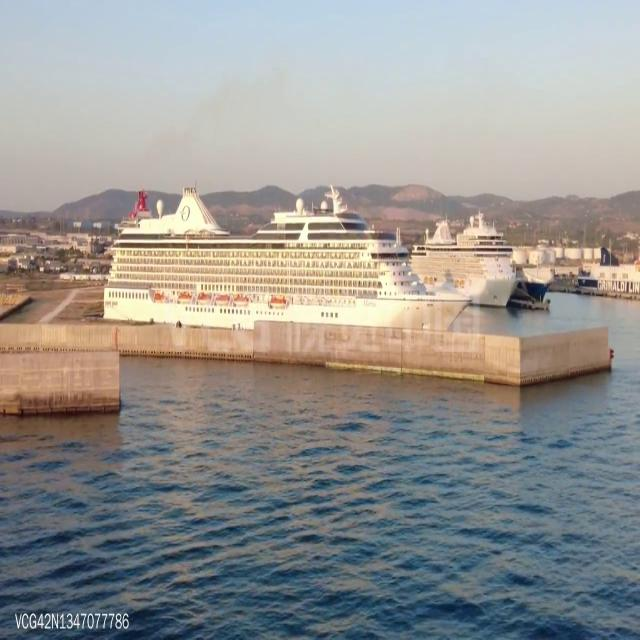passenger ship: (101, 185, 464, 334), (408, 218, 520, 309)
